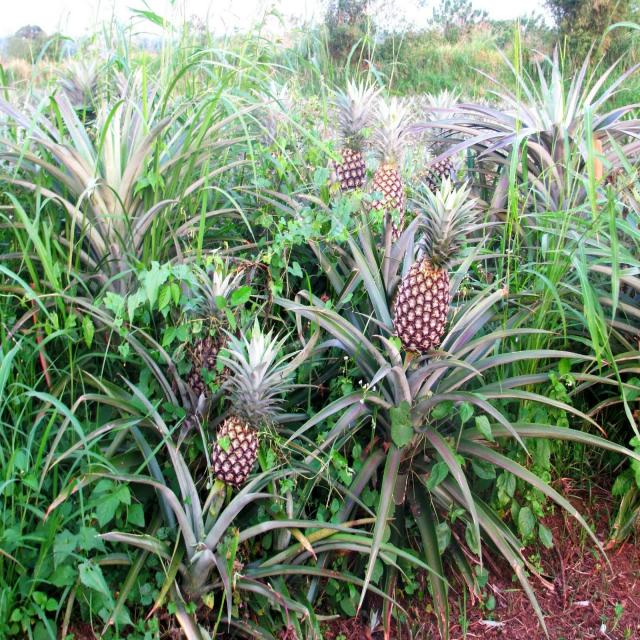Pineapple: (211, 318, 318, 487), (394, 178, 478, 353), (370, 97, 412, 240), (331, 80, 380, 192)
